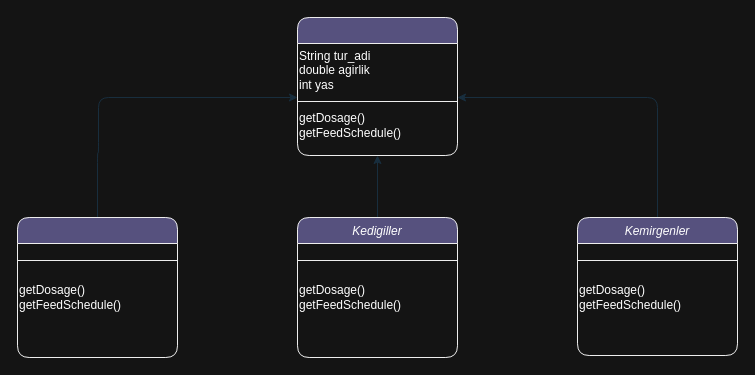
Some shapes in this 755 by 375 pixel diagram are drawn without their labels. The box of each missing label's shape, as (x1, y1, x2, y2) in pixels:
Atlar: (16, 216, 178, 358)
Hayvanlar: (296, 16, 458, 156)
